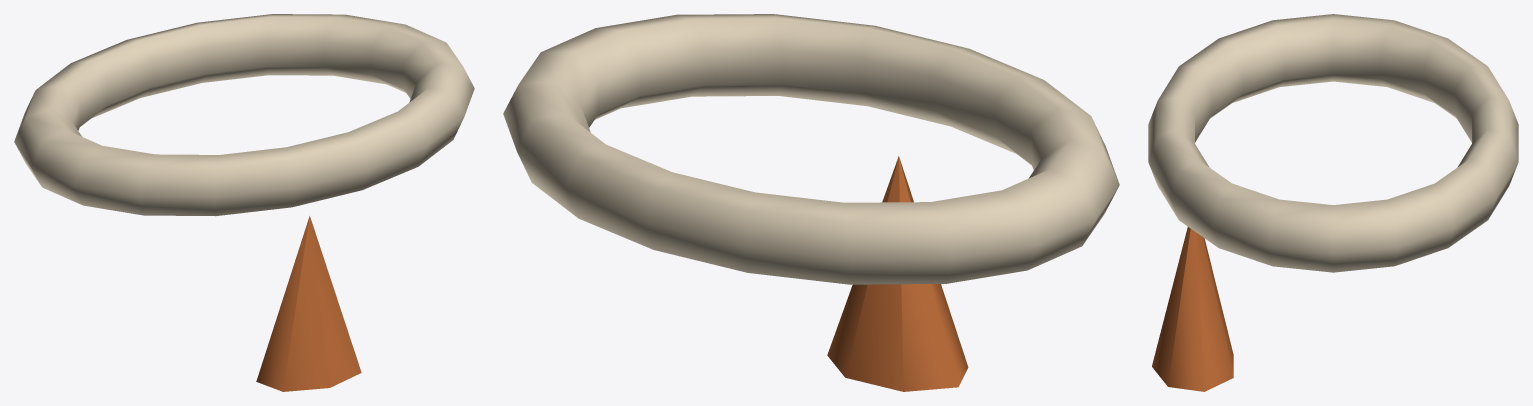
The model's file is wearable.glb.
3 renders of one model, left to right at view 1: azimuth 30°, elevation 25°; view 2: azimuth 150°, elevation 25°; view 3: azimuth 270°, elevation 25°, orthographic. The views are drawn at different scales.
Visible parts, largest first — view 1: wearable_band, wearable_charm; view 2: wearable_band, wearable_charm; view 3: wearable_band, wearable_charm.
Part boxes in pixels (<box>): wearable_band: <box>14,14,474,216</box>; wearable_charm: <box>256,216,361,391</box>; wearable_band: <box>503,14,1119,284</box>; wearable_charm: <box>827,156,968,391</box>; wearable_band: <box>1148,14,1518,272</box>; wearable_charm: <box>1152,227,1233,391</box>.
Size of the model in its own units: 0.678 by 0.3639 by 0.4807.
